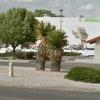Tree: (4, 4, 70, 53)
